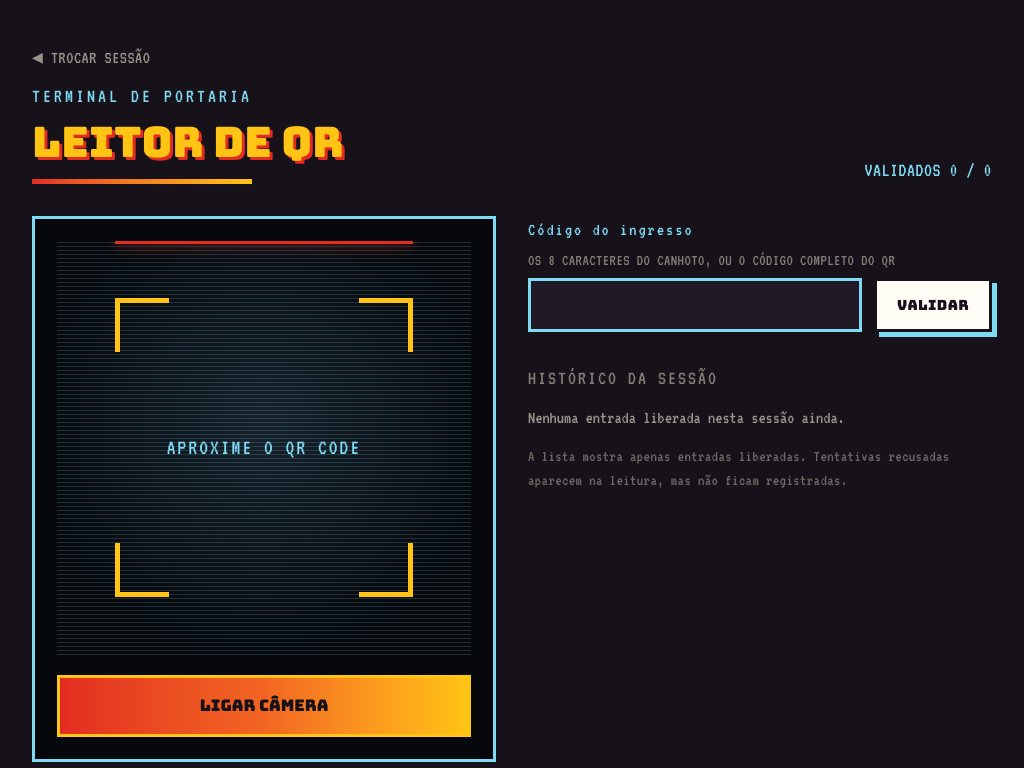
Test: ValidacaoPortariaPage › shows INVALIDO for a malformed or forged code
Type "codigo-forjado" into the field labelled "Código do ingresso".
click(695, 304); type("codigo-forjado")  # box x1=528 y1=278 x2=862 y2=332
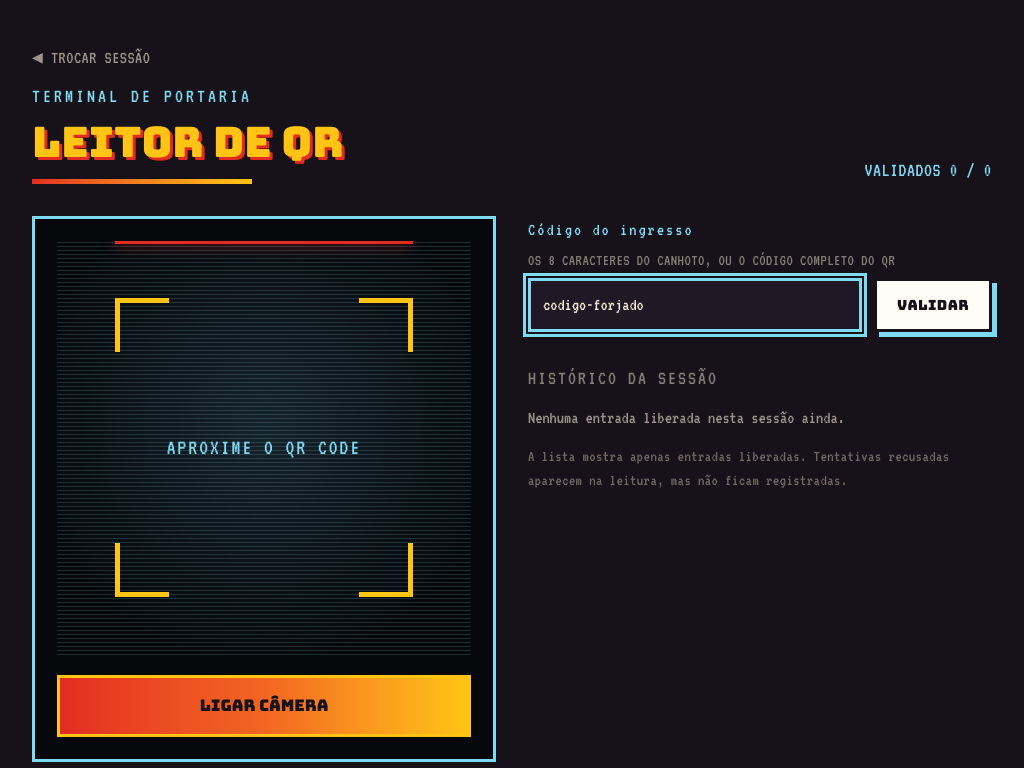
Click the button "VALIDAR".
click(933, 304)  # box x1=874 y1=278 x2=992 y2=332
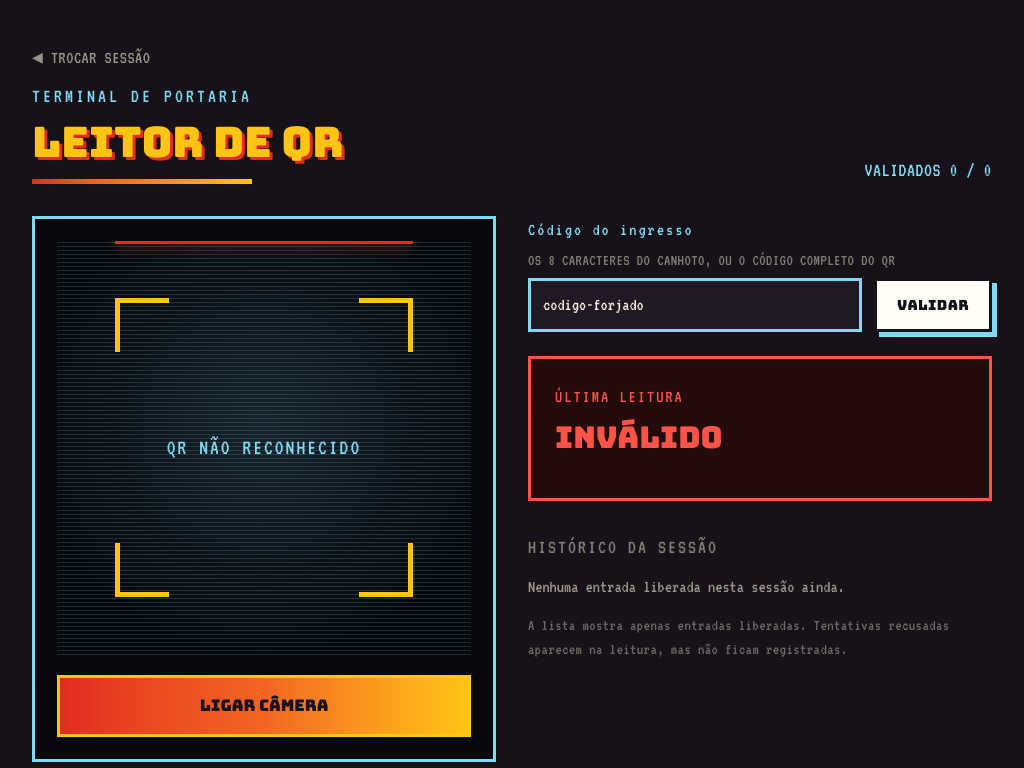
Check: the text "INVÁLIDO" is shown, box x1=555 y1=416 x2=723 y2=456
